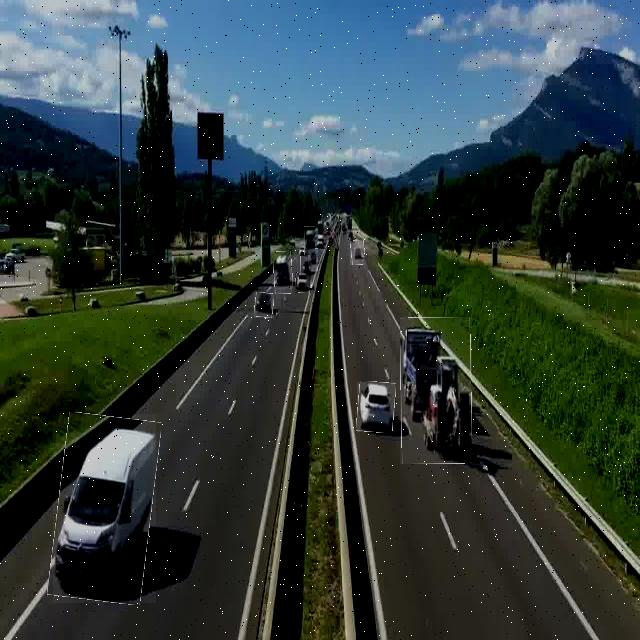Car: (357, 382, 395, 432), (254, 293, 274, 318), (350, 241, 364, 265), (296, 273, 312, 293), (300, 256, 311, 280), (308, 248, 318, 271)
Truck: (53, 414, 156, 603), (400, 317, 472, 464), (274, 252, 292, 294), (304, 226, 315, 255)
